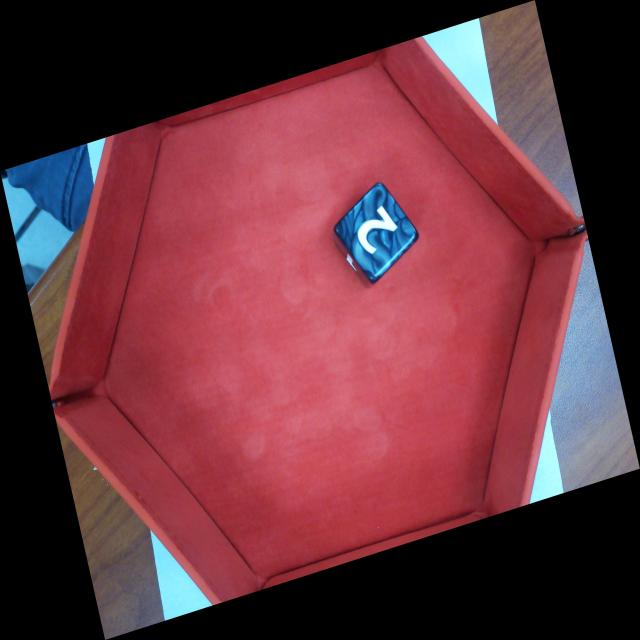dice: (329, 180, 423, 288)
